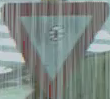Give way: (4, 2, 106, 85)
